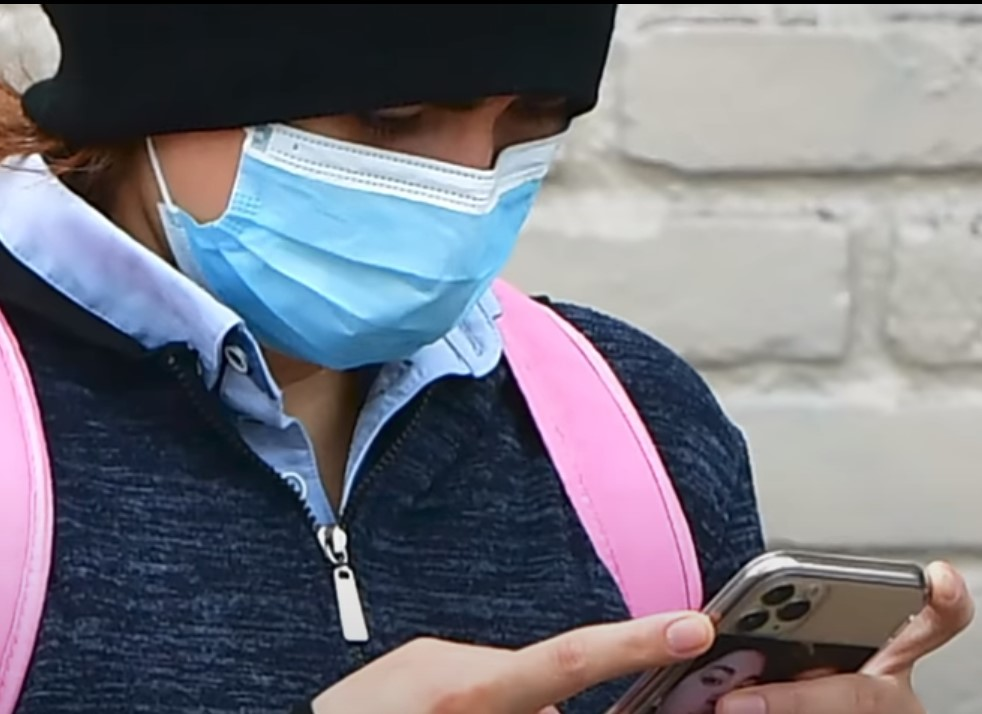face_with_mask: (14, 1, 619, 379)
